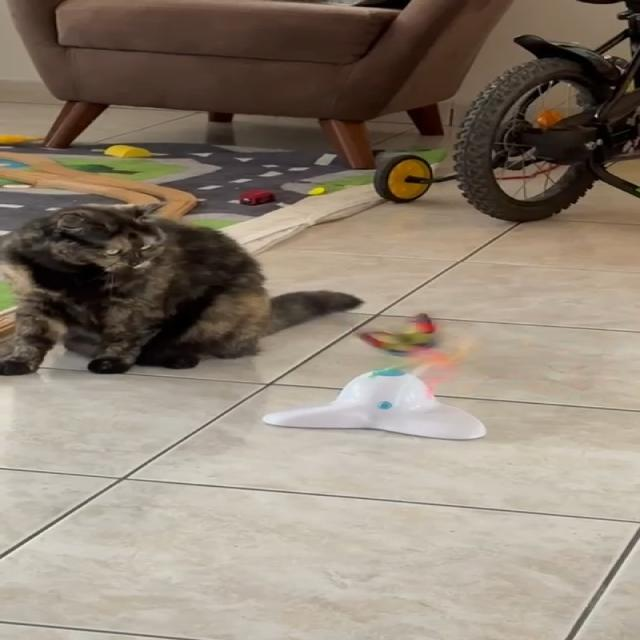authorized: (0, 201, 364, 375)
